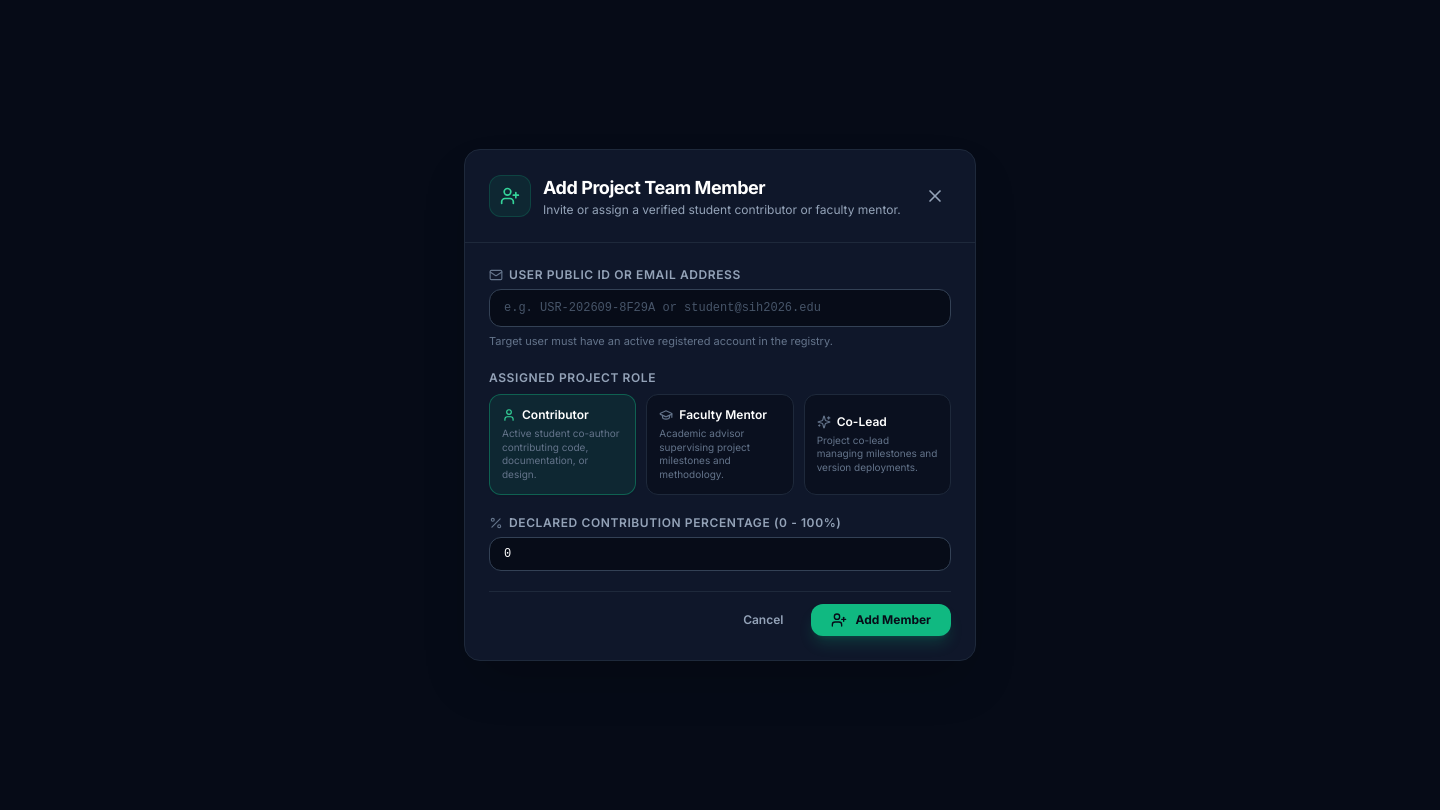
it: Frontend Project Team / Member Management Tests › rejects invalid contribution percentage client-side
Type "student@sih2026.edu" into the field with placeholder "e.g. USR-202609-8F29A or student@sih2026.edu".
click(720, 308); type("student@sih2026.edu")  # box x1=489 y1=289 x2=951 y2=327
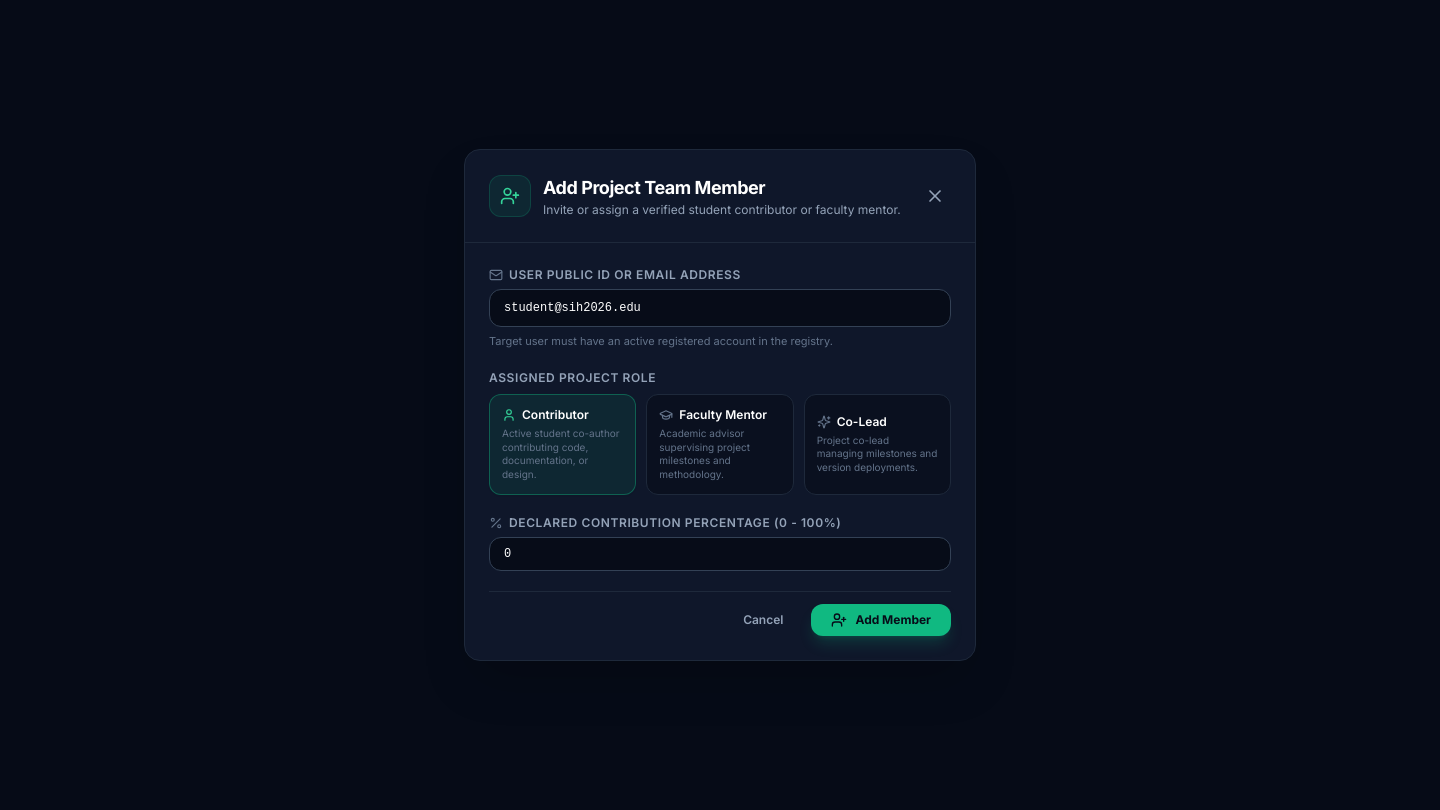
Replace the text in the number field with placeholder "e.g. 25.5" with "150" at (720, 554), box x1=489 y1=537 x2=951 y2=571
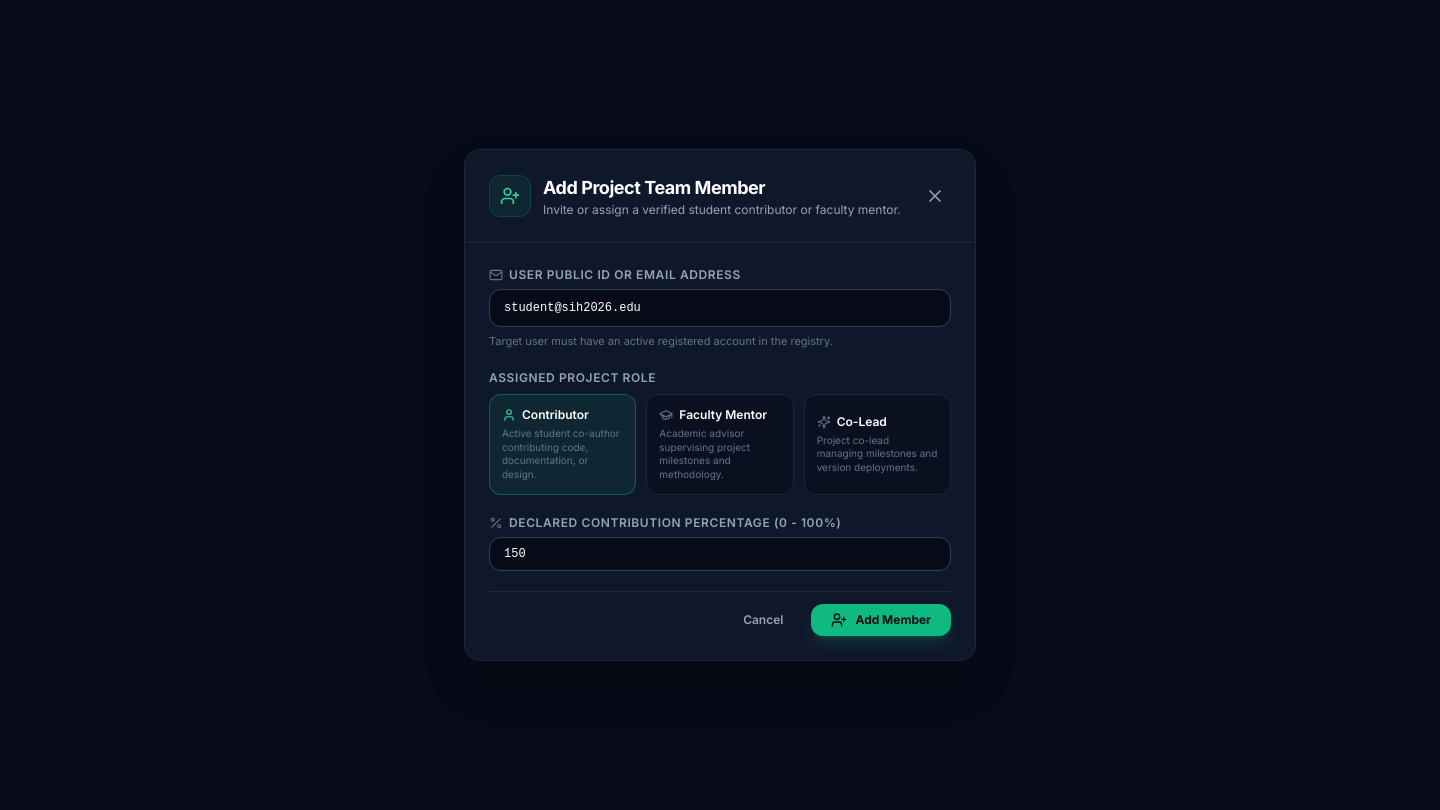
Click the button "Add Member".
click(881, 620)  # box x1=812 y1=604 x2=951 y2=636
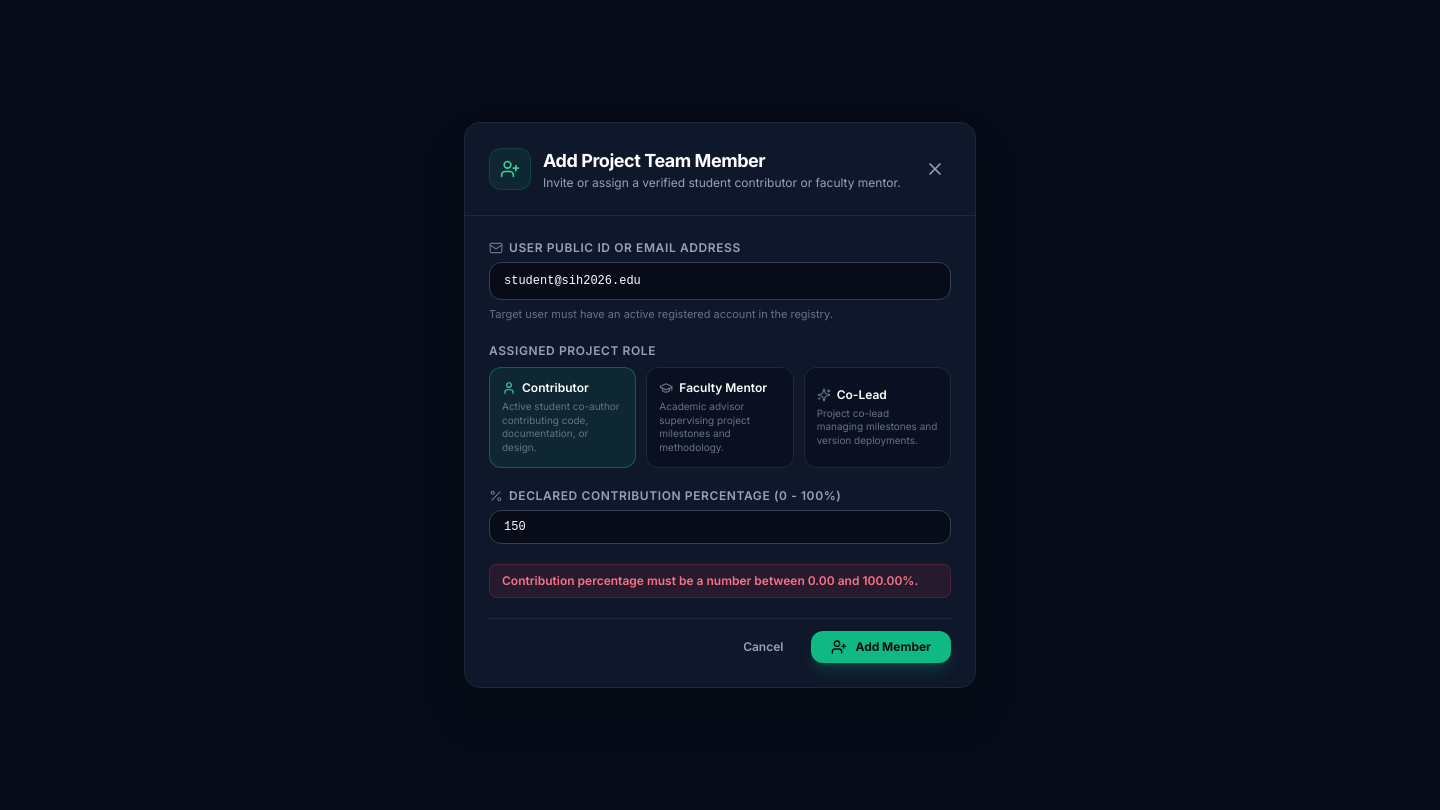
Now the text "Contribution percentage must be a number between 0.00 and 100.00%" is shown, box x1=502 y1=573 x2=918 y2=588
